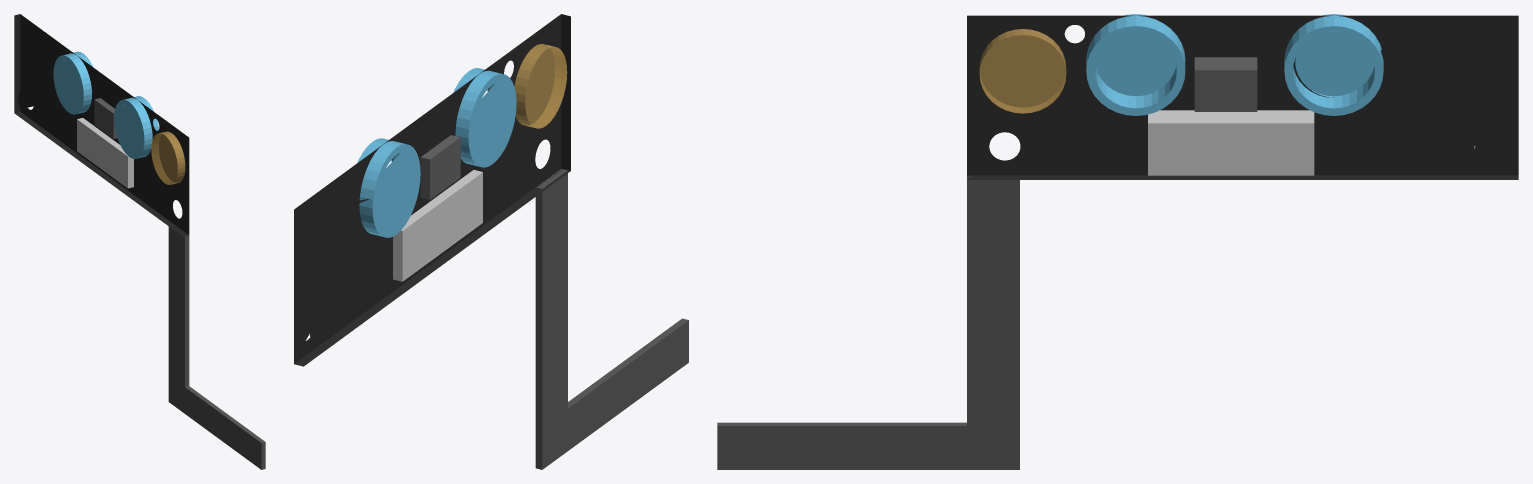
The model's file is ScreenModule.fbx.
3 views of the same model, side by side, from view 1: azimuth 30°, elevation 25°; view 2: azimuth 150°, elevation 25°; view 3: azimuth 270°, elevation 25° (orthographic). The views are drawn at different scales.
Visible parts, largest first — view 1: Cube.020; view 2: Cube.020; view 3: Cube.020.
Boxes of the visible parts, bbox=[...] form: Cube.020: bbox=[14, 14, 265, 469]; Cube.020: bbox=[294, 14, 688, 469]; Cube.020: bbox=[717, 14, 1518, 469].
Size of the model in its own units: 9.76 by 138 by 224.
